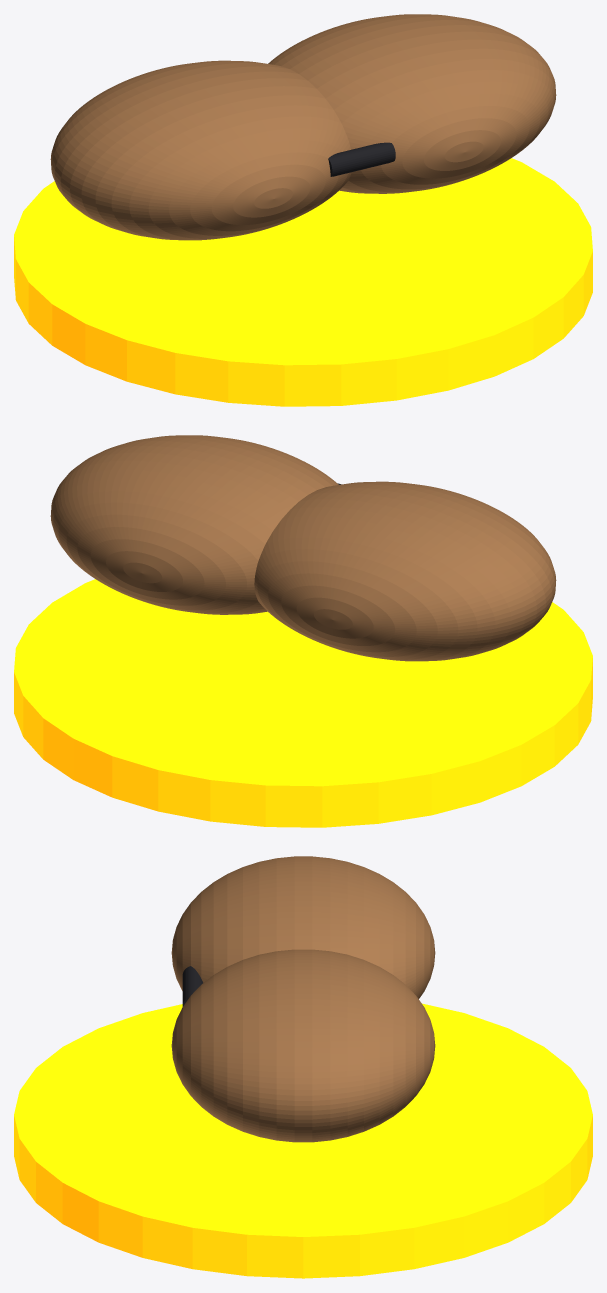
File: spanish_castanets.glb
The picture shows the model from 3 angles, top to bottom: view 1: azimuth 30°, elevation 25°; view 2: azimuth 150°, elevation 25°; view 3: azimuth 270°, elevation 25°; orthographic projection.
Visible parts, largest first — view 1: 11_14_Popular_Spanish_Castanets_ROOT_base, 11_14_Popular_Spanish_Castanets_part_01, 11_14_Popular_Spanish_Castanets_part_02, 11_14_Popular_Spanish_Castanets_part_03; view 2: 11_14_Popular_Spanish_Castanets_ROOT_base, 11_14_Popular_Spanish_Castanets_part_01, 11_14_Popular_Spanish_Castanets_part_02; view 3: 11_14_Popular_Spanish_Castanets_ROOT_base, 11_14_Popular_Spanish_Castanets_part_02, 11_14_Popular_Spanish_Castanets_part_01.
Part boxes in pixels (x1=…): 11_14_Popular_Spanish_Castanets_ROOT_base: x1=14, y1=158, x2=592, y2=406; 11_14_Popular_Spanish_Castanets_part_01: x1=50, y1=60, x2=351, y2=240; 11_14_Popular_Spanish_Castanets_part_02: x1=268, y1=14, x2=556, y2=193; 11_14_Popular_Spanish_Castanets_part_03: x1=328, y1=142, x2=395, y2=176; 11_14_Popular_Spanish_Castanets_ROOT_base: x1=14, y1=579, x2=592, y2=827; 11_14_Popular_Spanish_Castanets_part_01: x1=254, y1=481, x2=556, y2=661; 11_14_Popular_Spanish_Castanets_part_02: x1=50, y1=435, x2=338, y2=614; 11_14_Popular_Spanish_Castanets_ROOT_base: x1=14, y1=1003, x2=592, y2=1278; 11_14_Popular_Spanish_Castanets_part_02: x1=171, y1=949, x2=435, y2=1142; 11_14_Popular_Spanish_Castanets_part_01: x1=171, y1=856, x2=435, y2=998.
Size of the model in its own units: 0.76 by 0.3242 by 0.76.
